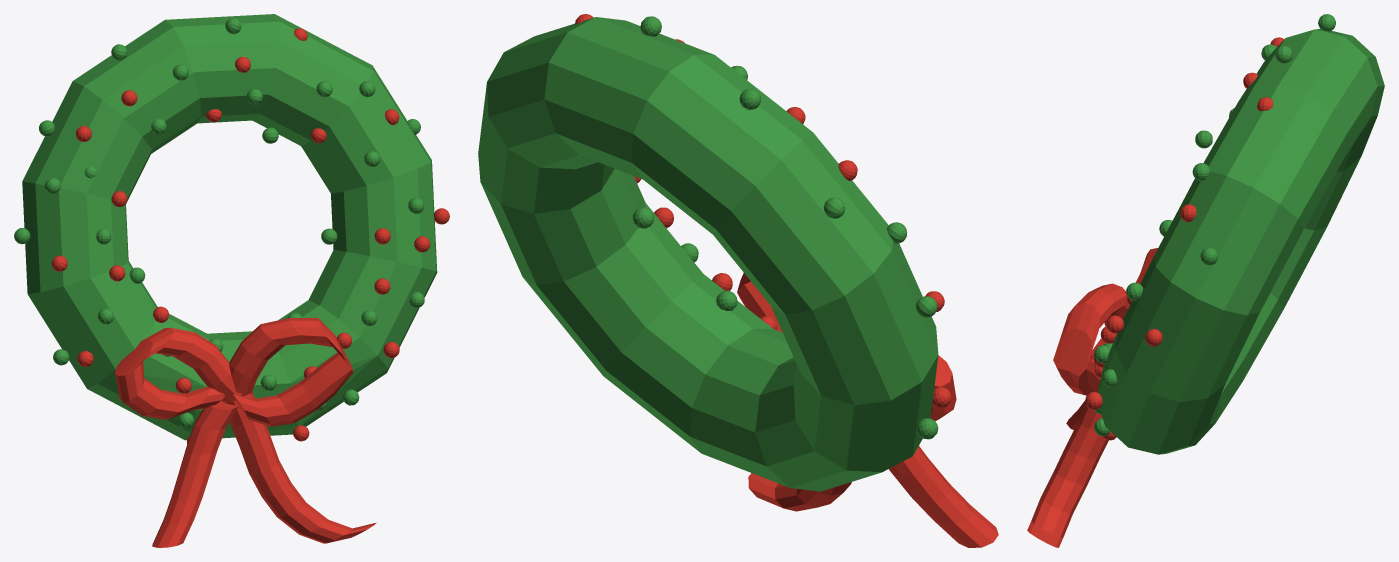
3 views of the same model, side by side, from view 1: azimuth 30°, elevation 25°; view 2: azimuth 150°, elevation 25°; view 3: azimuth 270°, elevation 25° (orthographic). The views are drawn at different scales.
Visible parts, largest first — view 1: node_MeshObject-1253731328-PolyPaper21, node_MeshObject1897077760-PolyPaper8; view 2: node_MeshObject-1253731328-PolyPaper21, node_MeshObject1897077760-PolyPaper8; view 3: node_MeshObject-1253731328-PolyPaper21, node_MeshObject1897077760-PolyPaper8.
Boxes of the visible parts, x1,y1,x2,y2 form: node_MeshObject-1253731328-PolyPaper21: (14, 14, 449, 441); node_MeshObject1897077760-PolyPaper8: (115, 28, 399, 547); node_MeshObject-1253731328-PolyPaper21: (478, 16, 951, 491); node_MeshObject1897077760-PolyPaper8: (575, 14, 998, 547); node_MeshObject-1253731328-PolyPaper21: (1085, 14, 1384, 454); node_MeshObject1897077760-PolyPaper8: (1027, 97, 1273, 547).
Bounding box in the file's own units: 0.5271 × 0.5989 × 0.3941.
